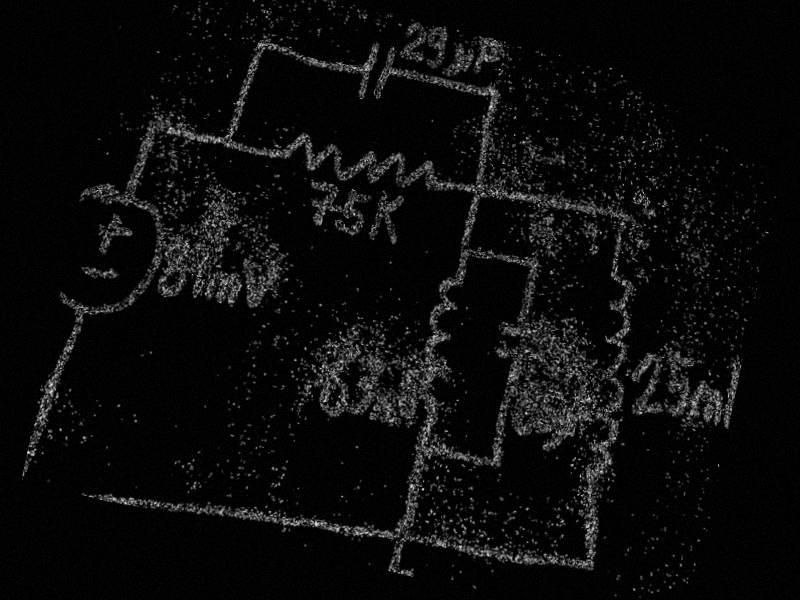2: (622, 345, 675, 426), (393, 18, 434, 67)
3: (343, 353, 389, 424)
5: (656, 348, 699, 424), (332, 185, 375, 245), (534, 386, 563, 438)
6: (311, 334, 366, 425)
7: (290, 172, 349, 240)
8: (145, 232, 202, 312), (507, 374, 546, 441)
9: (419, 23, 457, 73)
F: (470, 35, 505, 80), (565, 393, 594, 444)
H: (717, 358, 742, 429), (389, 383, 422, 432)
V: (236, 254, 287, 315)
k: (361, 184, 414, 253)
m: (185, 259, 248, 313), (682, 377, 730, 434), (366, 394, 400, 427)
u: (444, 42, 478, 82), (548, 406, 573, 454)
